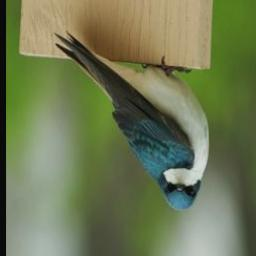Swallow: (51, 30, 211, 212)
